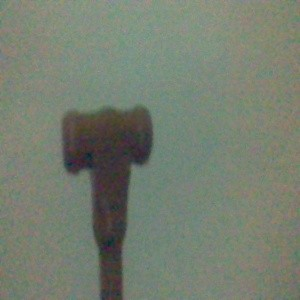palu: (61, 103, 154, 300)
